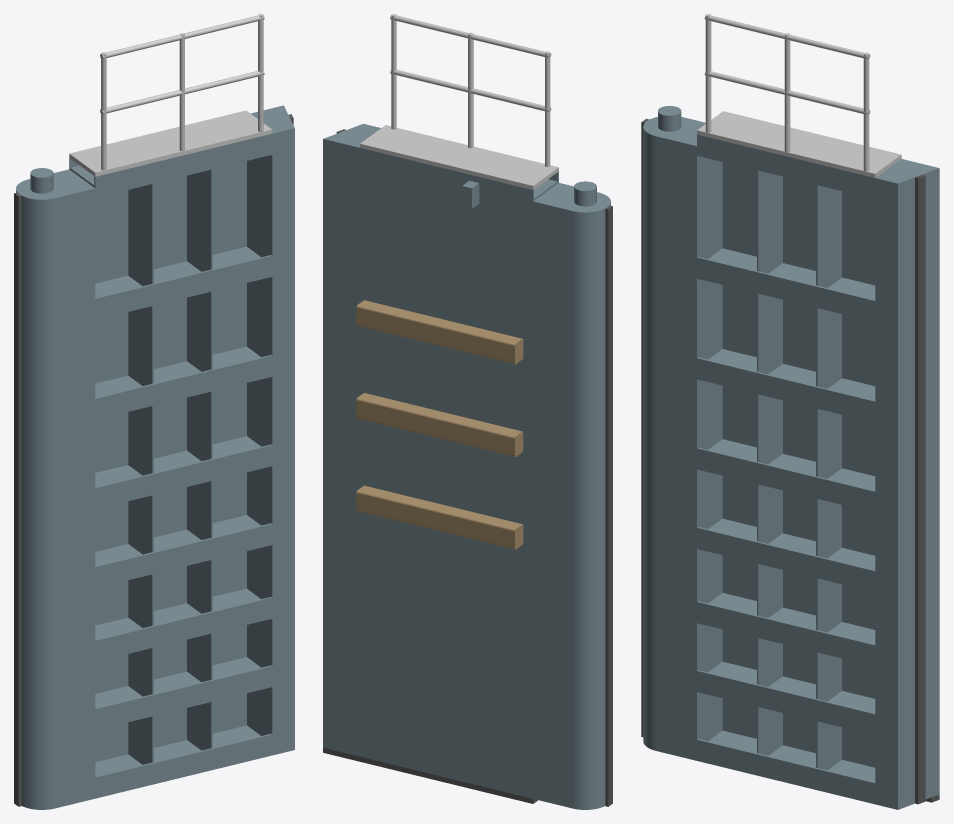
Rendered from step_16.glb.
The picture shows the model from 3 angles, left to right: view 1: azimuth 30°, elevation 25°; view 2: azimuth 150°, elevation 25°; view 3: azimuth 330°, elevation 25°; orthographic projection. The views are drawn at different scales.
Parts seen in each view (by area): view 1: part__gate leaf (welded S355 steel), part__walkway and handrail, part__heel seal; view 2: part__gate leaf (welded S355 steel), part__oak fenders, part__walkway and handrail, part__heel seal, part__cill seal; view 3: part__gate leaf (welded S355 steel), part__walkway and handrail, part__mitre seal, part__heel seal.
Boxes of the visible parts, x1,y1,x2,y2 form: part__gate leaf (welded S355 steel): (16,105,294,809); part__walkway and handrail: (69,14,272,176); part__heel seal: (14,192,21,806); part__gate leaf (welded S355 steel): (323,123,610,809); part__oak fenders: (356,300,523,549); part__walkway and handrail: (360,14,558,189); part__heel seal: (605,205,612,806); part__cill seal: (323,747,537,803); part__gate leaf (welded S355 steel): (643,106,939,809); part__walkway and handrail: (697,14,901,177); part__mitre seal: (915,174,925,804); part__heel seal: (641,118,648,736).
Bounding box in the file's own units: 2790 × 7100 × 600.
